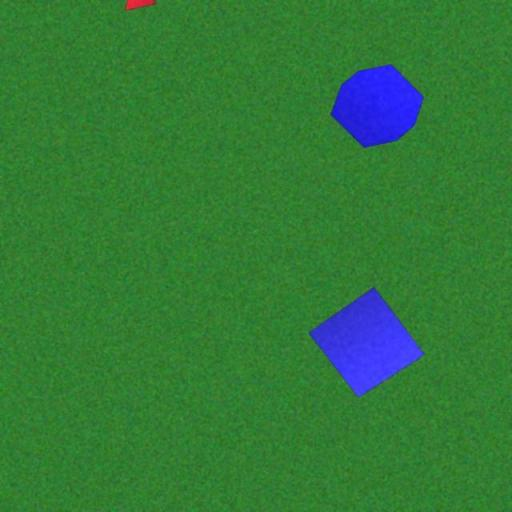BLUE_SQUARE: (308, 286, 426, 398)
